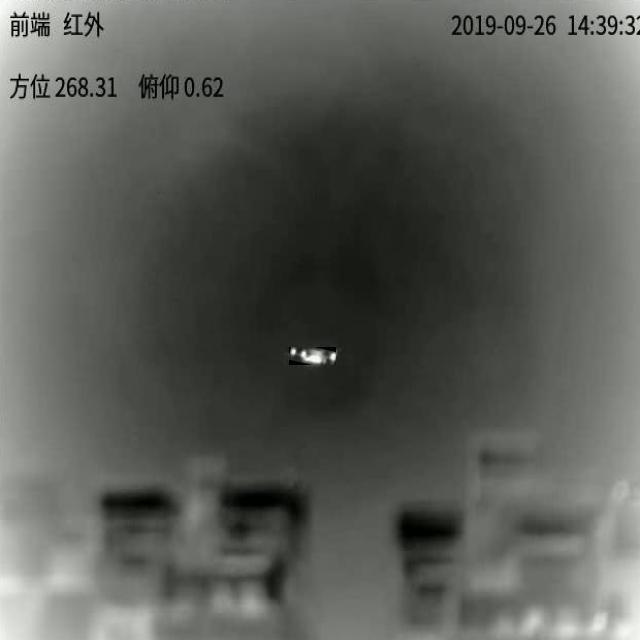drone: (289, 347, 336, 365)
